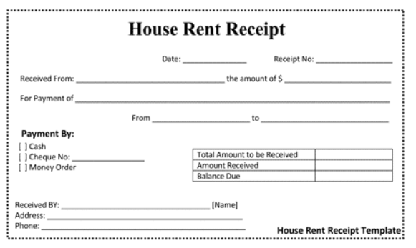checkbox: (18, 141, 27, 152), (18, 152, 27, 163), (18, 162, 27, 173)
textbox: (314, 147, 395, 162), (314, 158, 395, 173), (314, 169, 395, 183)
textline: (73, 95, 390, 104), (46, 212, 243, 221), (40, 223, 247, 231), (74, 74, 226, 84), (260, 114, 390, 125), (59, 202, 211, 211), (150, 112, 251, 125), (284, 74, 392, 84), (314, 55, 393, 65), (69, 153, 145, 163), (181, 56, 248, 65)
